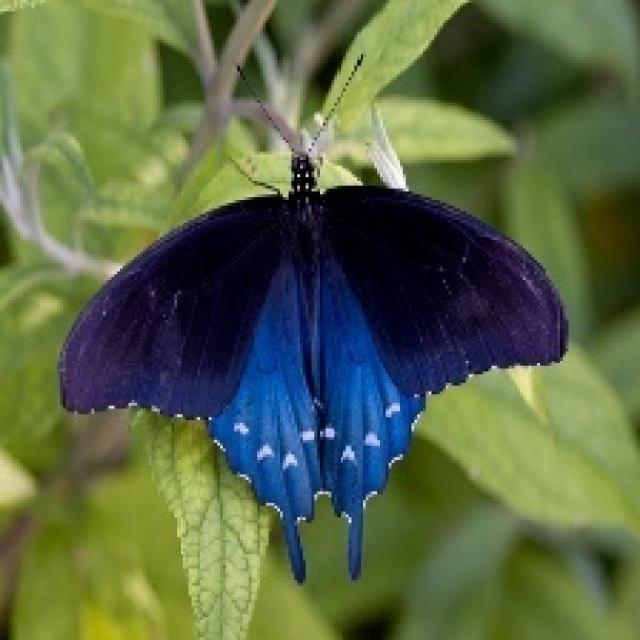butterfly: (54, 48, 569, 583)
